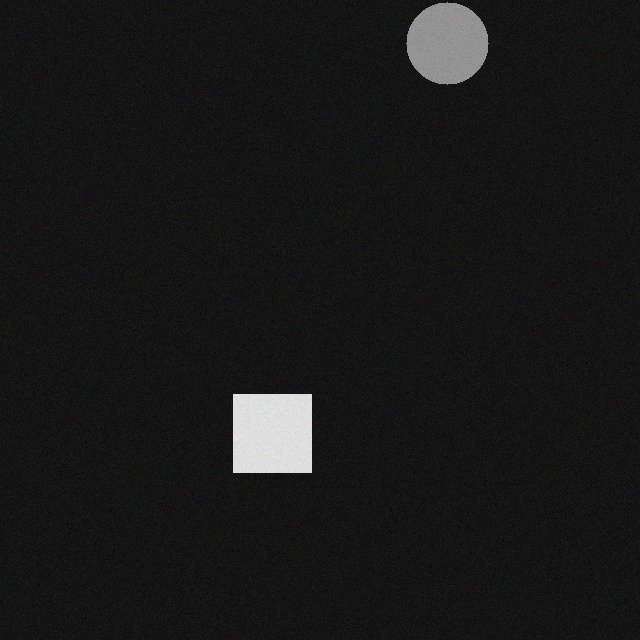circle: (404, 14, 486, 96)
square: (231, 406, 309, 484)
